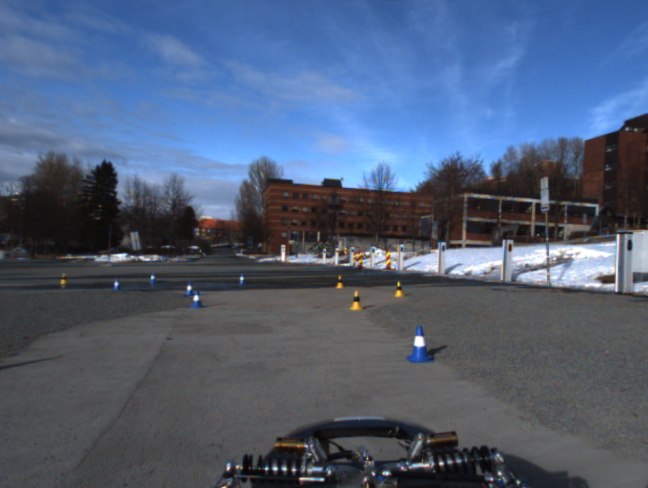cone-small-blue: (406, 325, 434, 363), (190, 290, 204, 309), (183, 281, 195, 297), (148, 272, 158, 285), (112, 278, 121, 292), (238, 273, 246, 286)
cone-small-yellow: (349, 289, 364, 311), (393, 282, 404, 298), (335, 274, 346, 289), (59, 273, 70, 287)
